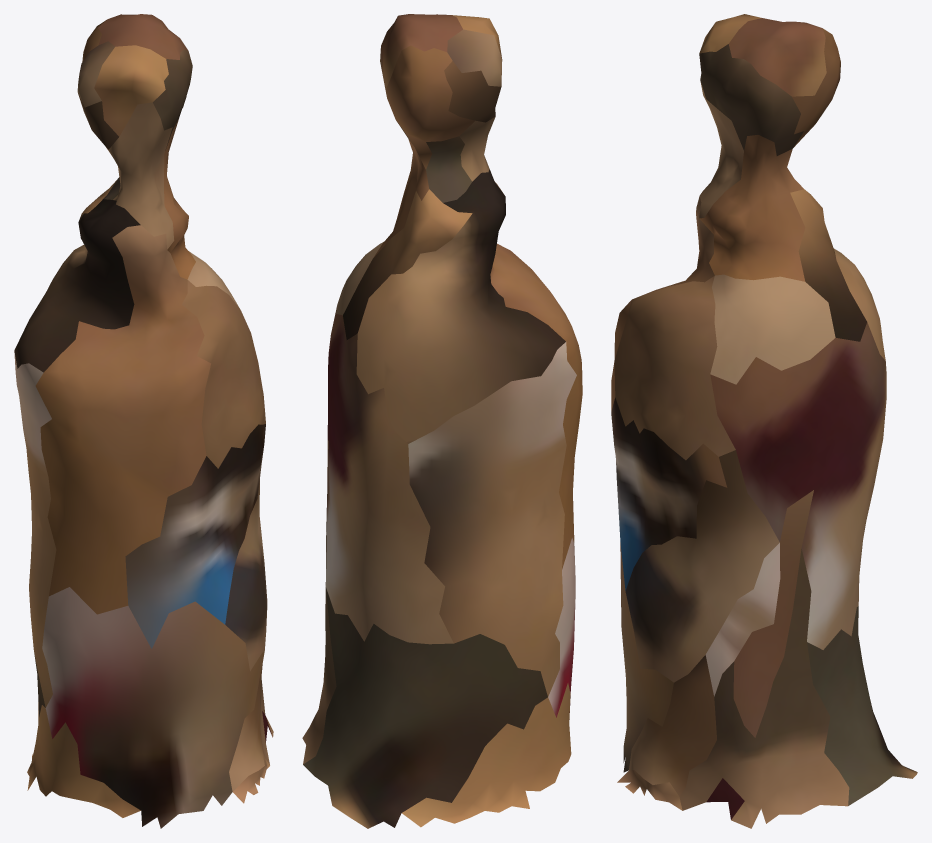
Rendered from cannaster.obj.
3 renders of one model, left to right at view 1: azimuth 30°, elevation 25°; view 2: azimuth 150°, elevation 25°; view 3: azimuth 270°, elevation 25°, orthographic. The views are drawn at different scales.
Parts seen in each view (by area): view 1: Object; view 2: Object; view 3: Object.
Boxes of the visible parts, x1,y1,x2,y2 form: Object: (14,14,273,828); Object: (302,14,582,828); Object: (611,14,917,828).
Bounding box in the file's own units: 0.0473 × 0.1385 × 0.0504.
